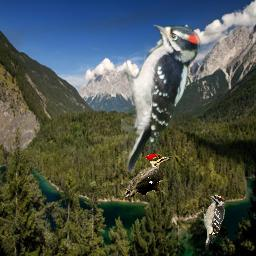Woodpecker: (121, 20, 202, 175), (124, 154, 174, 198), (199, 195, 226, 251)
